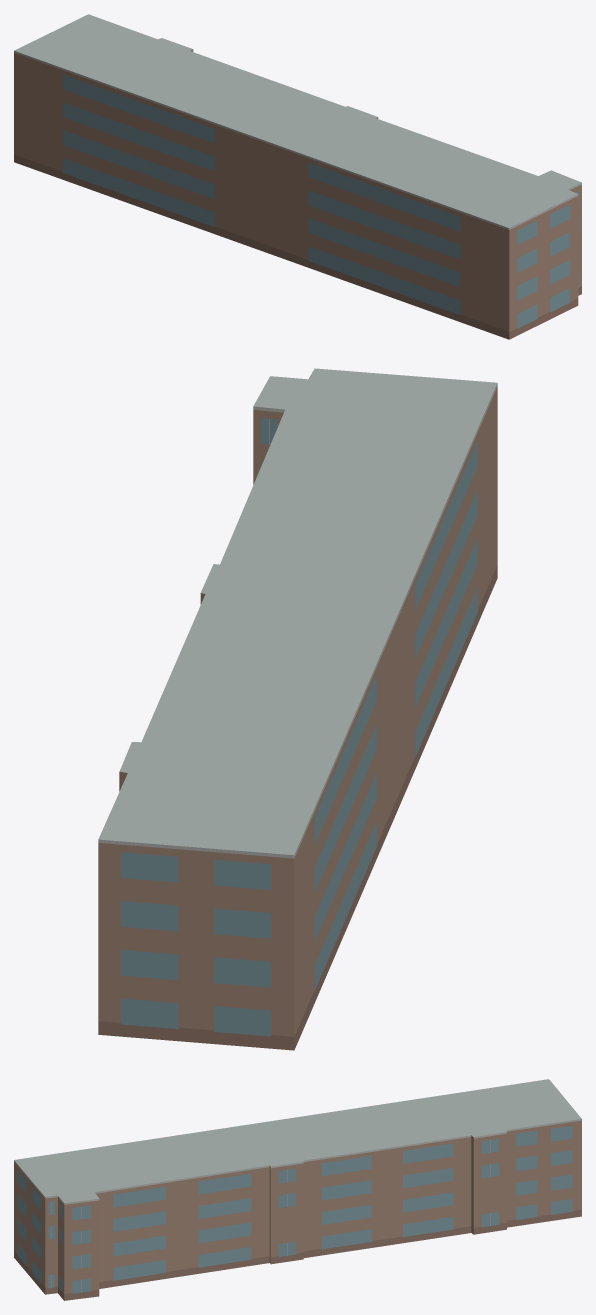
Rendered from survey-upis-32640606.glb.
3 renders of one model, top to bottom at view 1: azimuth 30°, elevation 25°; view 2: azimuth 150°, elevation 25°; view 3: azimuth 270°, elevation 25°, orthographic. The views are drawn at different scales.
Parts seen in each view (by area): view 1: survey-upis-32640606.tmp; view 2: survey-upis-32640606.tmp; view 3: survey-upis-32640606.tmp.
Part boxes in pixels (bbox=[...]): survey-upis-32640606.tmp: bbox=[14, 14, 581, 339]; survey-upis-32640606.tmp: bbox=[98, 368, 497, 1050]; survey-upis-32640606.tmp: bbox=[14, 1079, 581, 1300].
Bounding box in the file's own units: 38.76 × 14.2 × 74.88.
